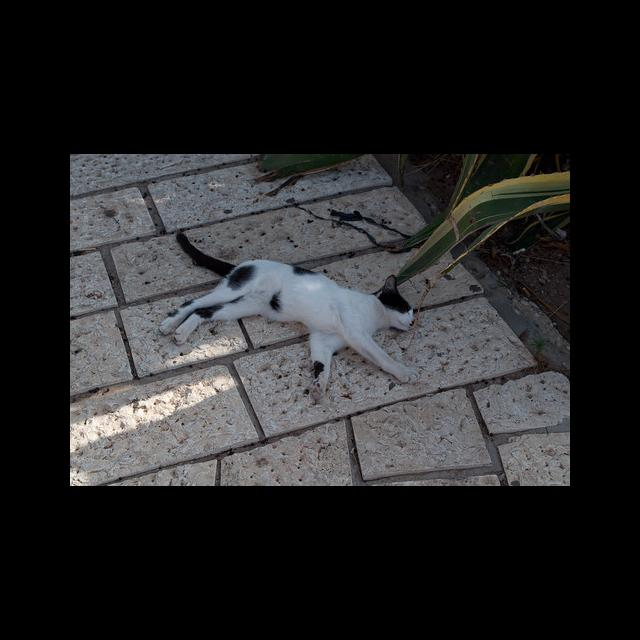animals: (160, 232, 422, 400)
